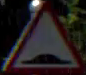Speed Breaker ahead: (4, 2, 83, 71)
